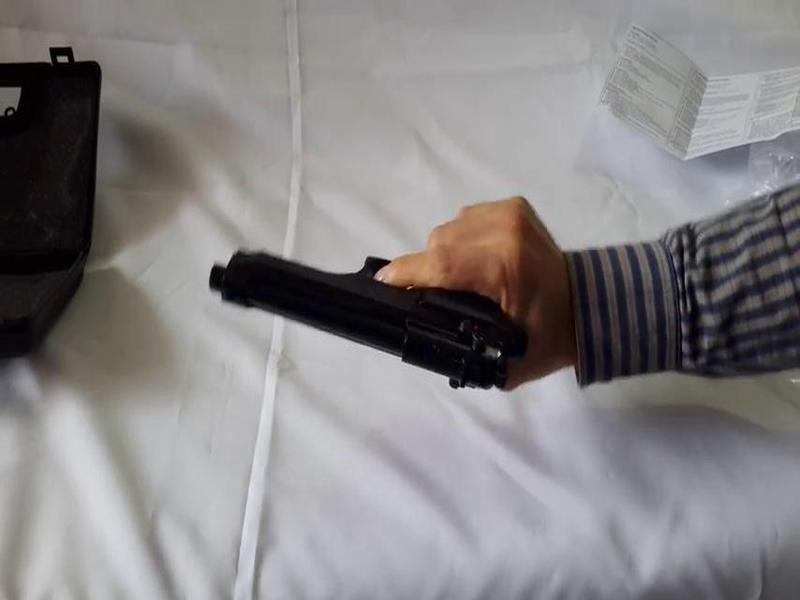Pistola: (190, 208, 520, 406)
